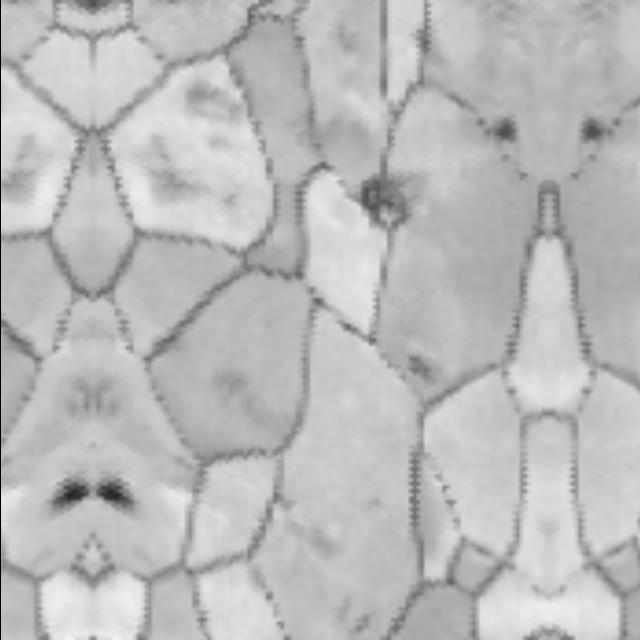good_void: (139, 134, 213, 210), (179, 77, 240, 131), (0, 134, 43, 210), (358, 176, 410, 233), (328, 580, 369, 636), (92, 475, 131, 509), (51, 475, 90, 509), (405, 352, 435, 389), (489, 117, 512, 144), (582, 117, 605, 144), (417, 34, 427, 54)
